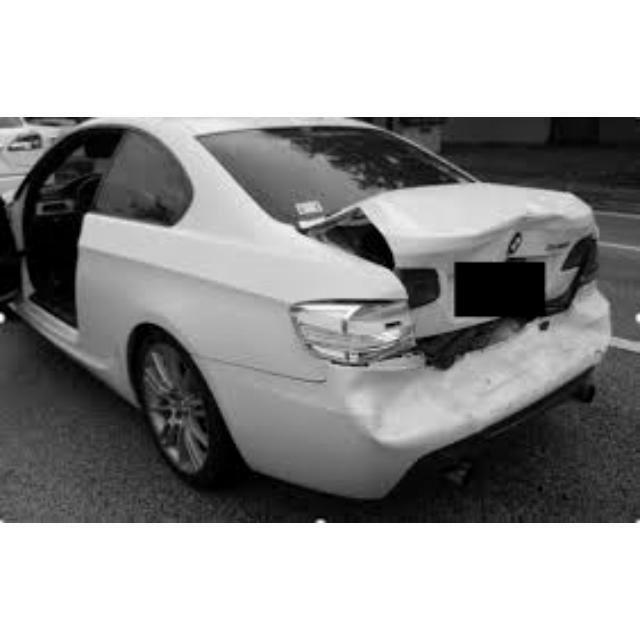Taillight-Damage: (318, 279, 432, 364)
boot-dent: (391, 197, 589, 331)
rear-bumper-dent: (335, 362, 496, 454), (488, 318, 612, 395)
